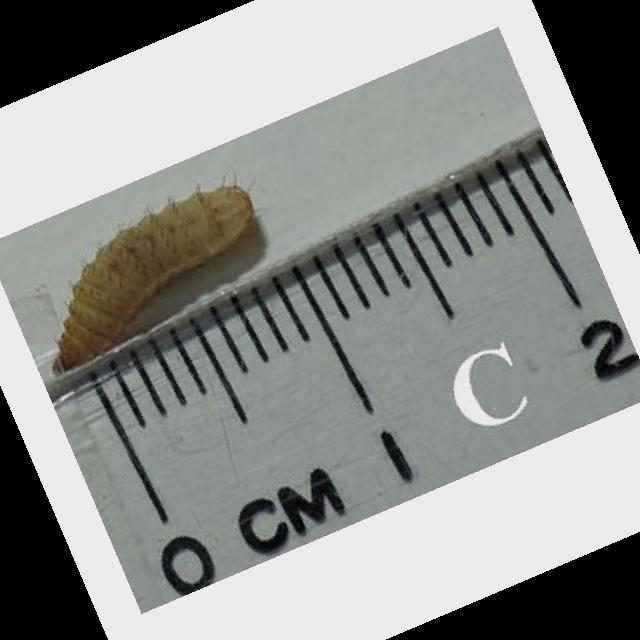Maggot: (48, 182, 253, 373)
